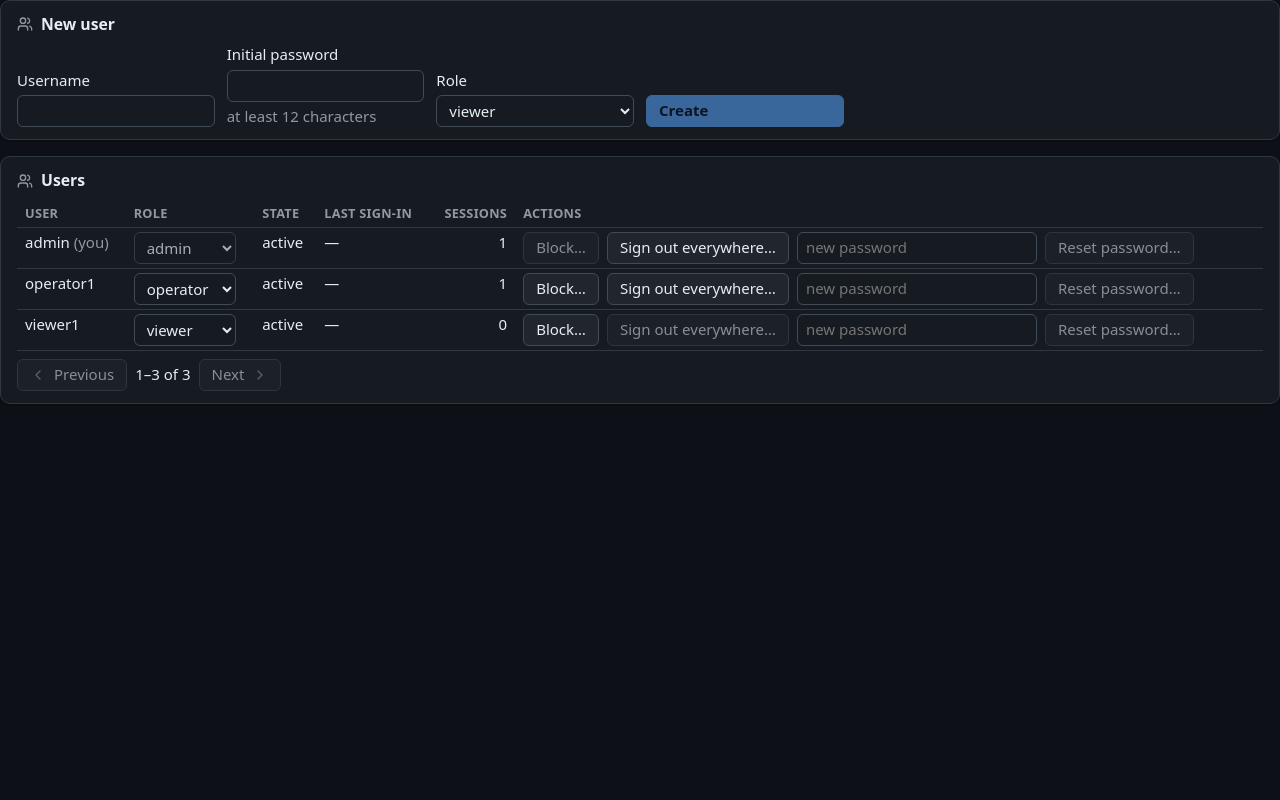
Test: UsersScreen › changes a role after confirmation
Select "engineer" in the dropdown named "Role of operator1" at (185, 289), box top-left (134, 273), bottom-right (236, 305)
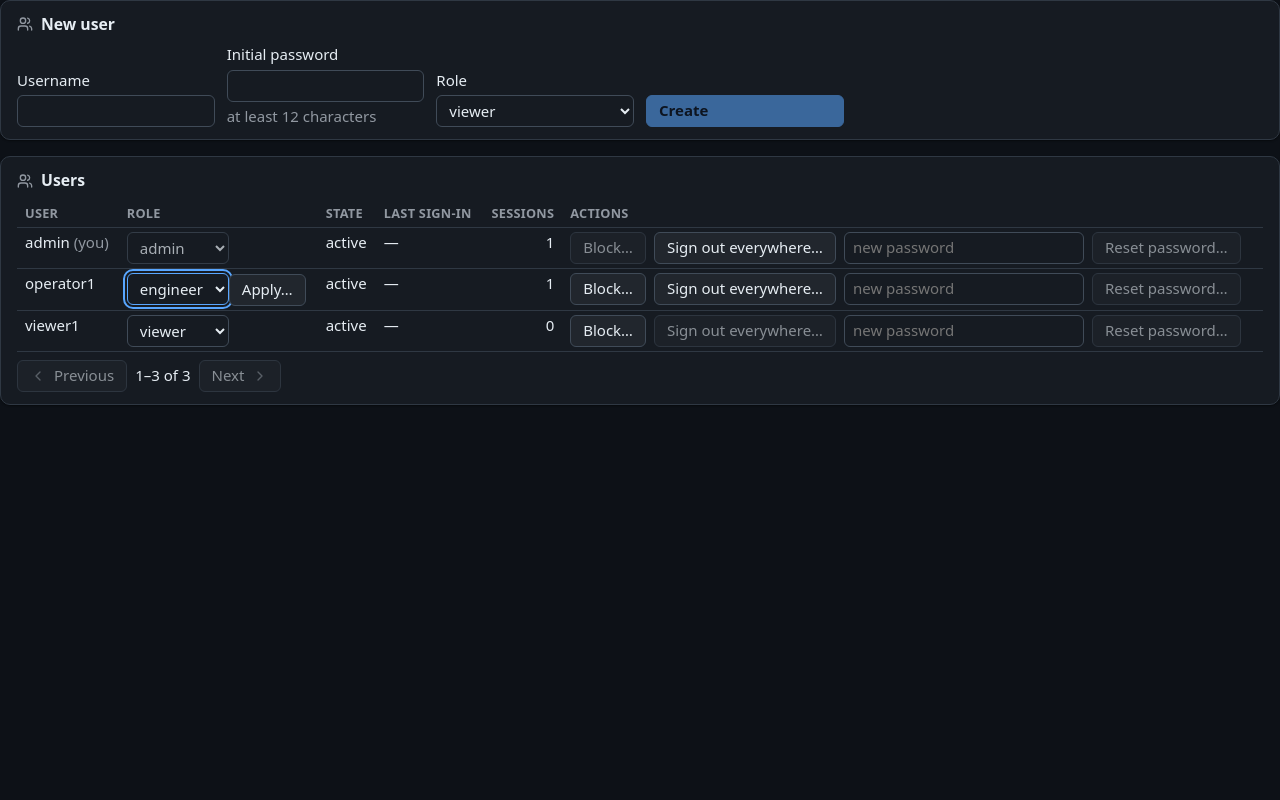
Click the button "Apply…" at (267, 290), box top-left (229, 274), bottom-right (306, 306)
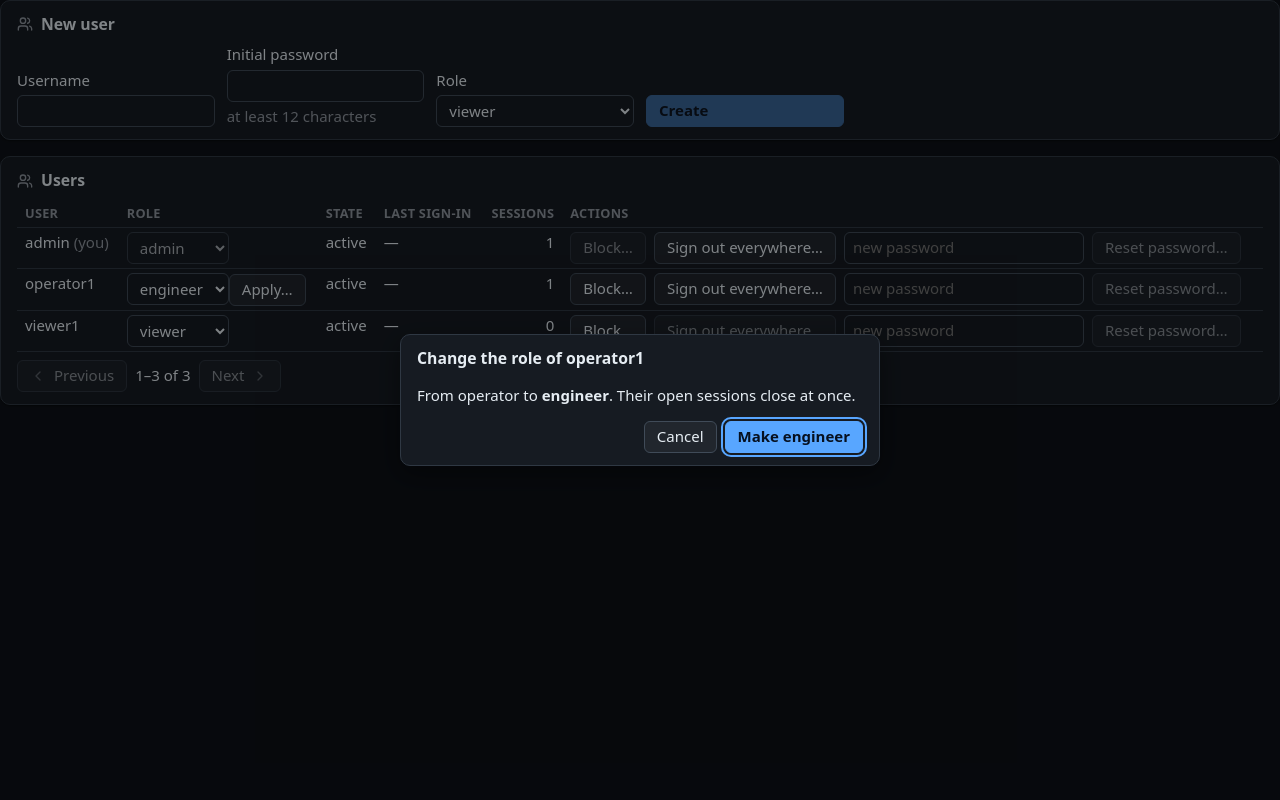
Check: the dialog shows "From operator to engineer", box top-left (400, 334), bottom-right (880, 466)
Click the button "Make engineer" at (794, 437), box top-left (724, 421), bottom-right (863, 453)
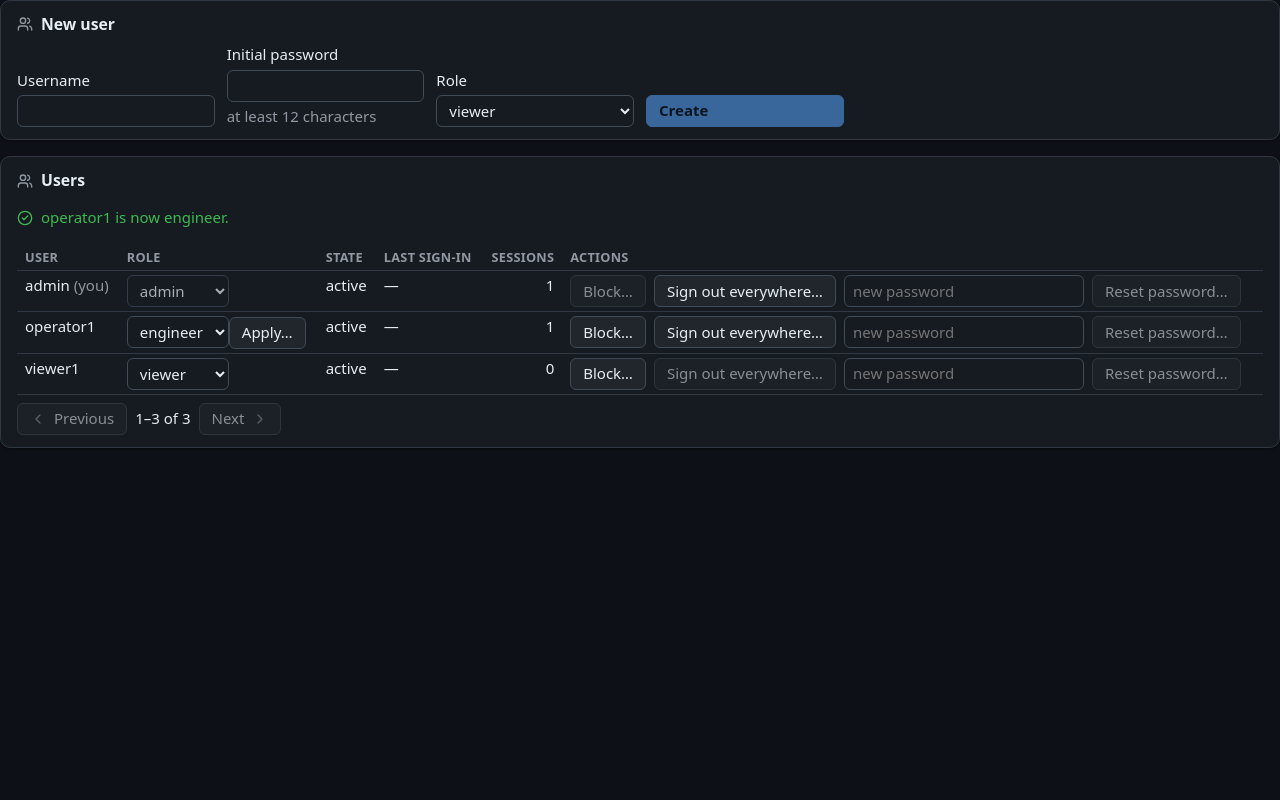
Check: the message reads "operator1 is now engineer.", box top-left (41, 207), bottom-right (229, 227)
Check: the dialog is gone
